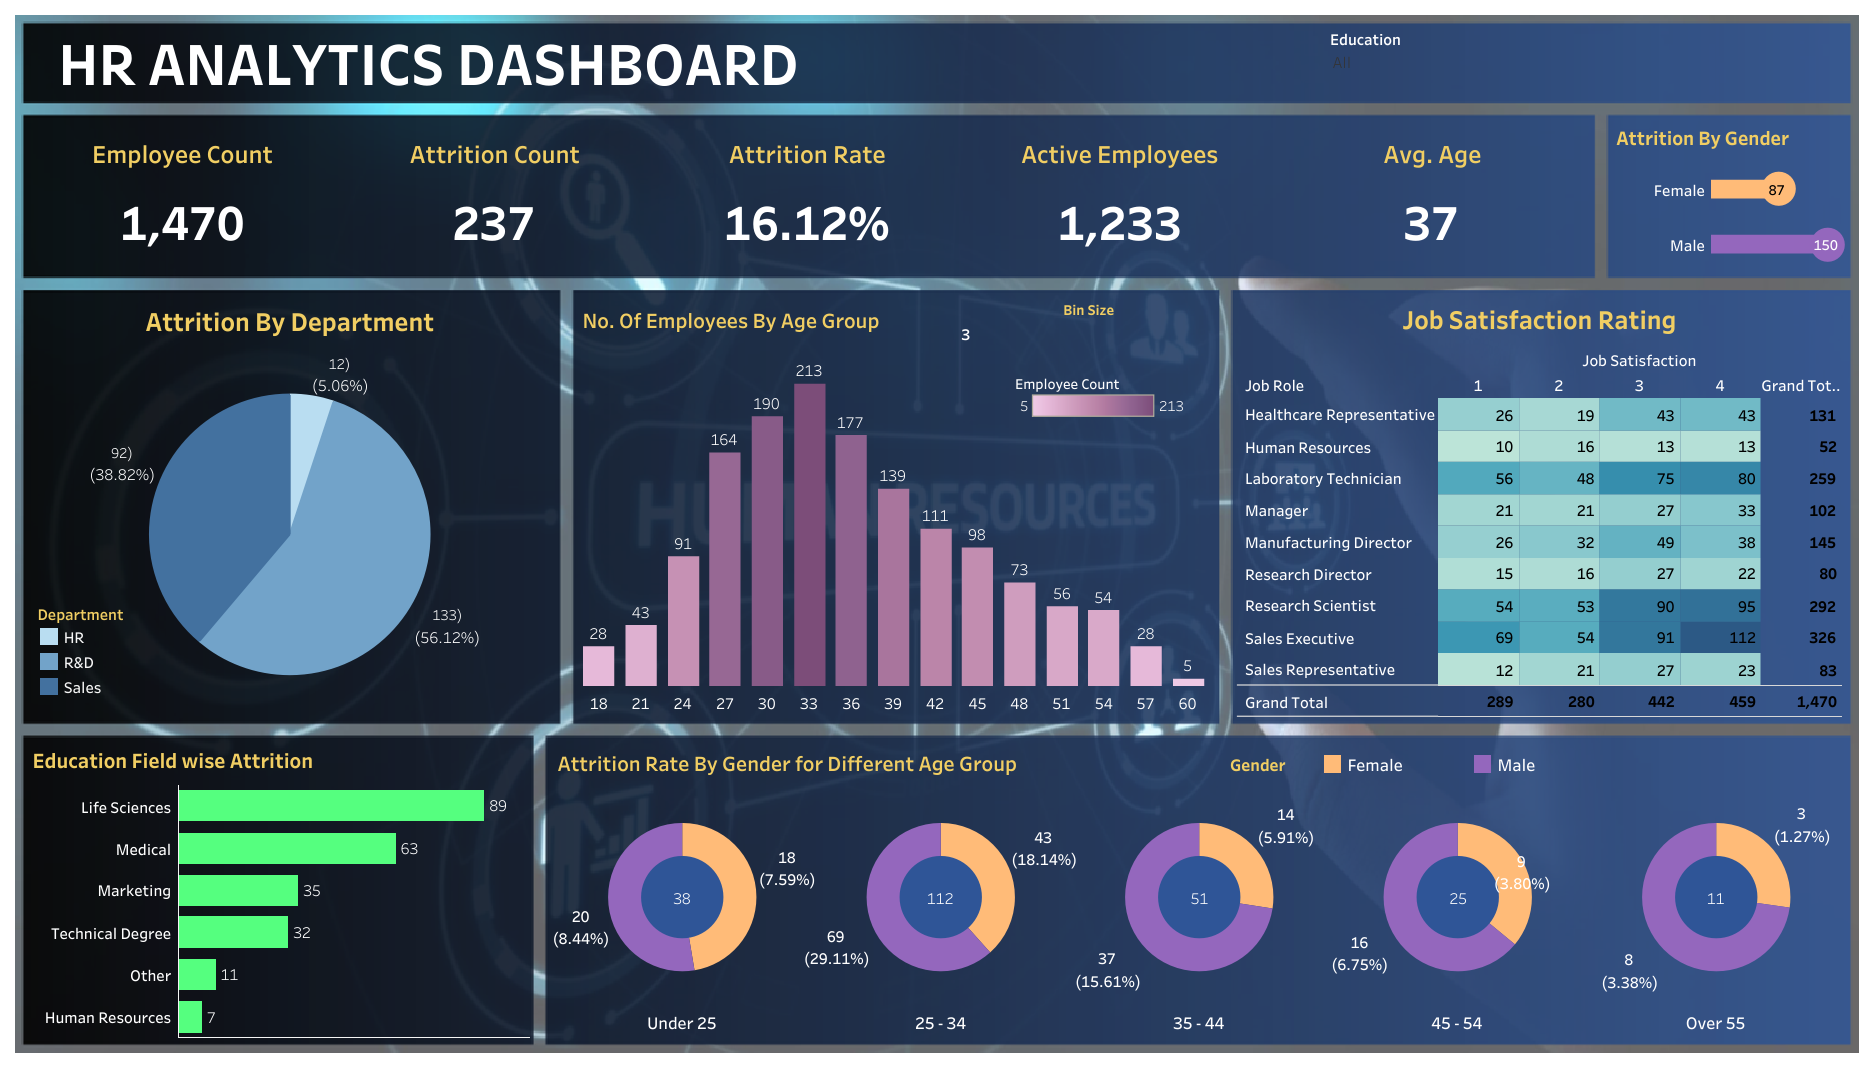

The page's visual inventory and layout, read from the dashboard file:
{"tool":"tableau","page":{"name":"HR ANALYTICS DASHBOARD","canvas":[1500,854],"ordinal":0},"visuals":[{"type":"image","param":"Image/HR background.pptx.png","box":[8,8,1484,838]},{"type":"filter","title":"Attrition Rate By Gender for Different Age Group","param":"[federated.0wn9yrs0med5o31bee8k2108hovf].[none:Education:nk]","box":[1064,21,213,55]},{"type":"text","box":[44,22,972,55]},{"type":"worksheet","title":"Attrition By Gender","mark":"Automatic","rows":["Gender"],"cols":["Calculation_1279303835192528896","Calculation_1279303835192528896"],"box":[1289,93,191,125]},{"type":"worksheet","title":"KPI","mark":"Automatic","box":[21,96,1250,121]},{"type":"worksheet","title":"Job Satisfaction Rating","mark":"Square","rows":["Job Role"],"cols":["Job Satisfaction"],"box":[990,235,483,338]},{"type":"worksheet","title":"Attrition By Department","mark":"Pie","box":[21,237,422,338]},{"type":"worksheet","title":"No. Of Employees By Age Group","mark":"Bar","rows":["Employee Count"],"cols":["Age (bin)"],"box":[462,238,506,333]},{"type":"parameter","param":"[Parameters].[Parameter 1]","box":[767,239,208,52]},{"type":"legend","title":"No. Of Employees By Age Group","param":"[federated.0wn9yrs0med5o31bee8k2108hovf].[sum:Employee Count:qk]","box":[812,295,140,55]},{"type":"legend","title":"Attrition By Department","param":"[federated.0wn9yrs0med5o31bee8k2108hovf].[none:Department:nk]","box":[29,480,140,85]},{"type":"worksheet","title":"Education field wise Attrition","mark":"Automatic","rows":["Education Field"],"cols":["Calculation_1279303835192528896"],"box":[22,590,401,240]},{"type":"worksheet","title":"Attrition Rate By Gender for Different Age Group","mark":"Pie","rows":["Calculation_1043709280109432833","Calculation_1043709280109432833"],"cols":["CF_age band"],"box":[442,593,1034,234]},{"type":"legend","title":"Attrition Rate By Gender for Different Age Group","param":"[federated.0wn9yrs0med5o31bee8k2108hovf].[none:Gender:nk]","box":[984,601,419,31]}]}

Visuals, with their boxes in screenshot pixels (x1, y1, x2, y2), scaled from the page's 1500x854 canvas onto the 1874x1066 screenshot:
image: pyautogui.locateOnScreen(10, 10, 1864, 1056)
"Attrition Rate By Gender for Different Age Group" filter: pyautogui.locateOnScreen(1329, 26, 1595, 95)
text: pyautogui.locateOnScreen(55, 27, 1269, 96)
"Attrition By Gender" worksheet: pyautogui.locateOnScreen(1610, 116, 1849, 272)
"KPI" worksheet: pyautogui.locateOnScreen(26, 120, 1588, 271)
"Job Satisfaction Rating" worksheet (Square marks): pyautogui.locateOnScreen(1237, 293, 1840, 715)
"Attrition By Department" worksheet (Pie marks): pyautogui.locateOnScreen(26, 296, 553, 718)
"No. Of Employees By Age Group" worksheet (Bar marks): pyautogui.locateOnScreen(577, 297, 1209, 713)
parameter: pyautogui.locateOnScreen(958, 298, 1218, 363)
"No. Of Employees By Age Group" legend: pyautogui.locateOnScreen(1014, 368, 1189, 437)
"Attrition By Department" legend: pyautogui.locateOnScreen(36, 599, 211, 705)
"Education field wise Attrition" worksheet: pyautogui.locateOnScreen(27, 736, 528, 1036)
"Attrition Rate By Gender for Different Age Group" worksheet (Pie marks): pyautogui.locateOnScreen(552, 740, 1844, 1032)
"Attrition Rate By Gender for Different Age Group" legend: pyautogui.locateOnScreen(1229, 750, 1753, 789)
